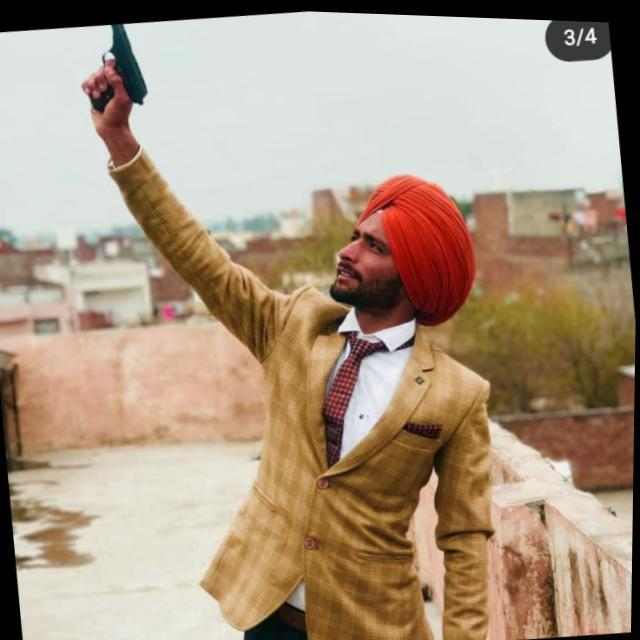weapon: (73, 16, 173, 124)
